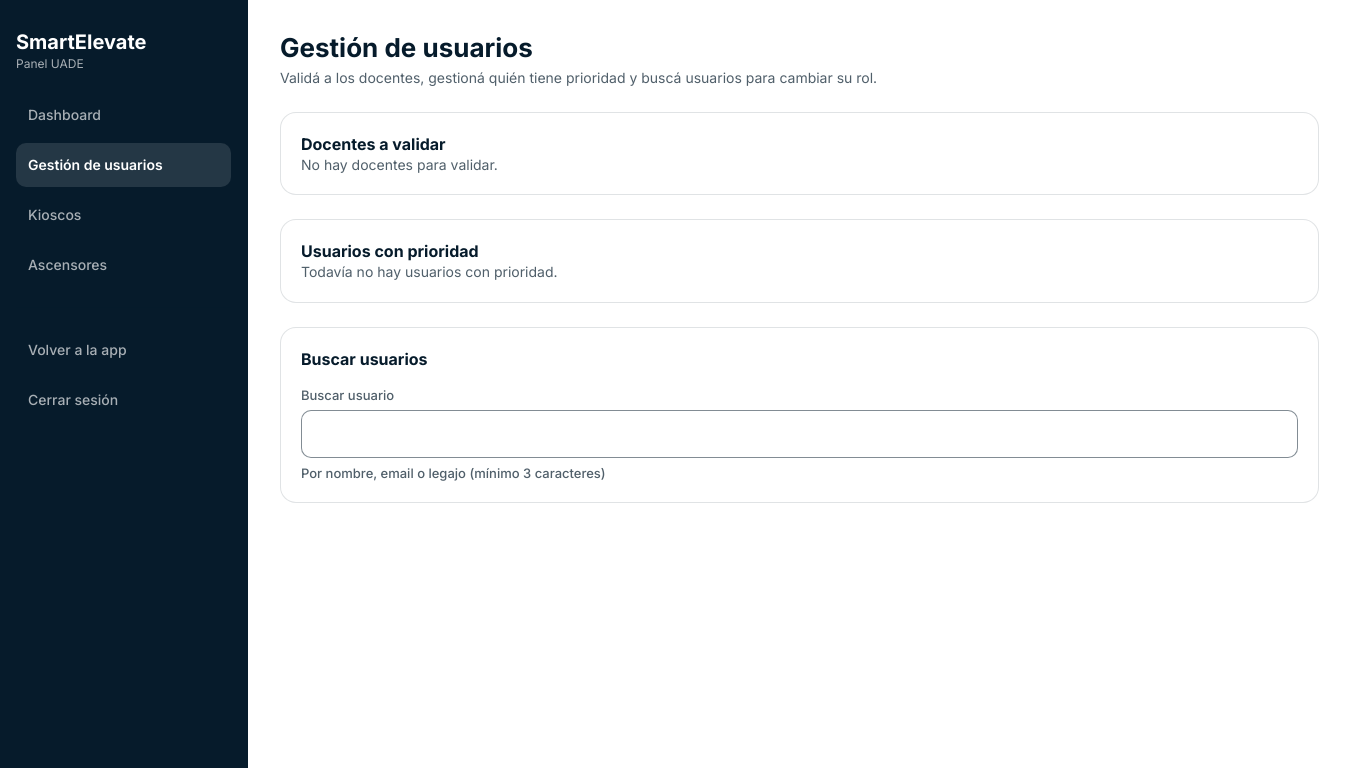
Test: Gestión de usuarios (09b) › de docente a estudiante avisa que se quita la prioridad
Type "carla" into the search field labelled "Buscar usuario" at {"x": 800, "y": 434}, box [301,410,1298,458]
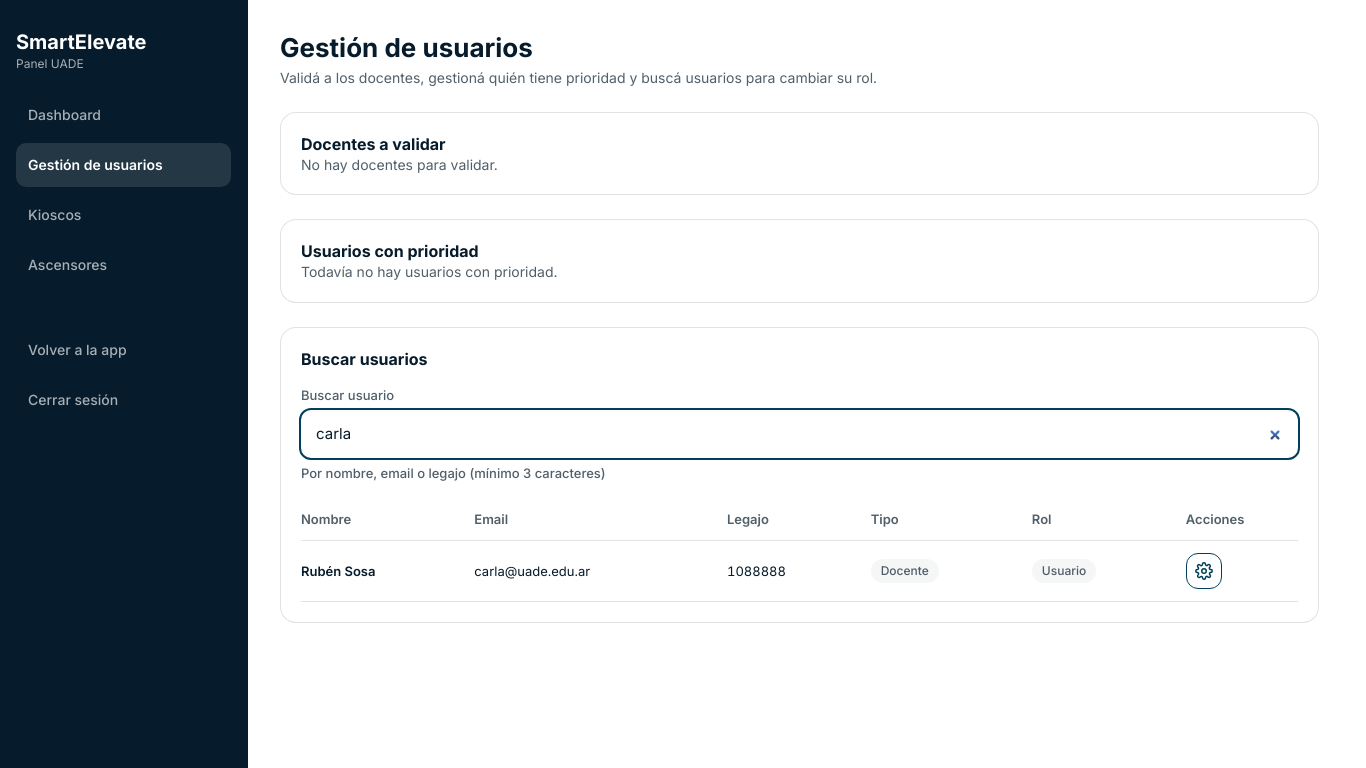
Click the button named "Gestionar usuario Rubén Sosa" at {"x": 1204, "y": 571}, box [1186,553,1222,589]
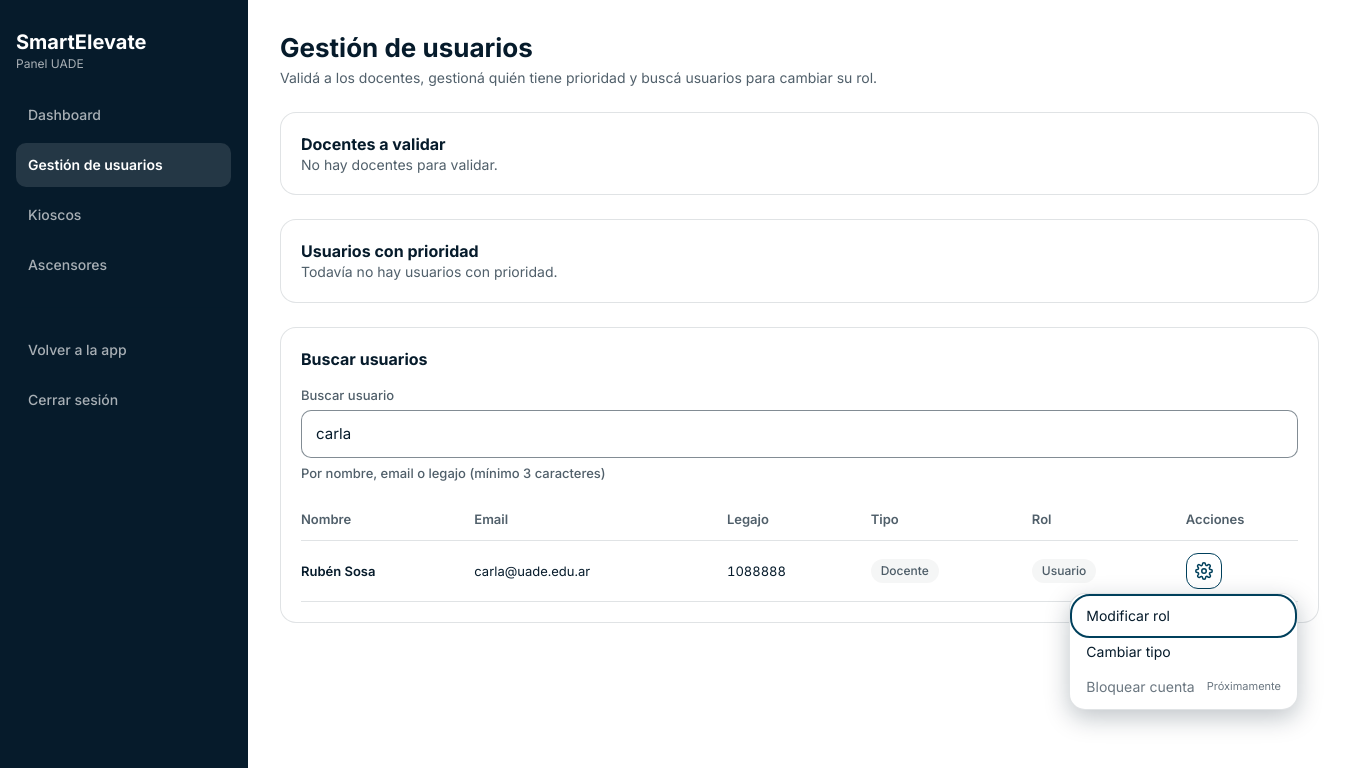
Click the menu item "Cambiar tipo" at {"x": 1184, "y": 651}, box [1074,634,1293,669]
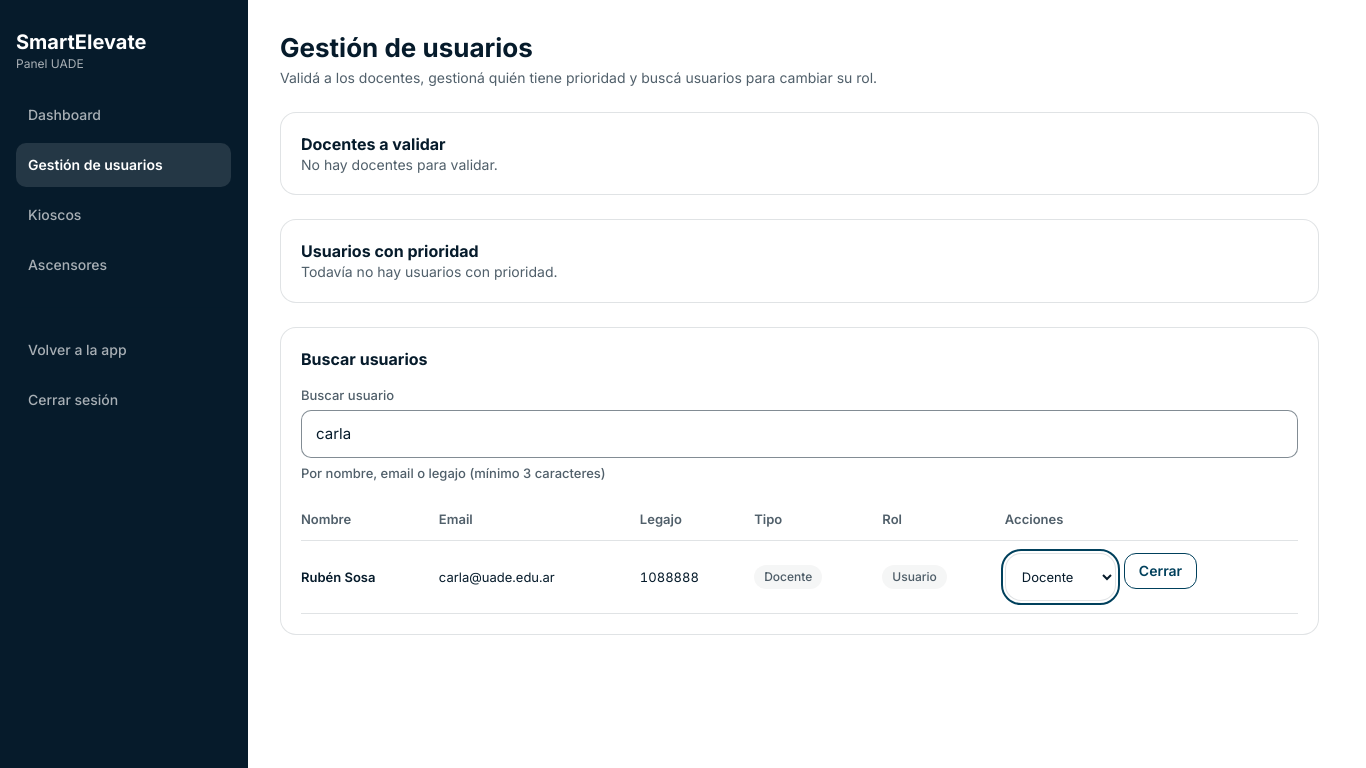
Select "Estudiante" in the dropdown named "Tipo de Rubén Sosa" at {"x": 1060, "y": 577}, box [1005,553,1116,601]
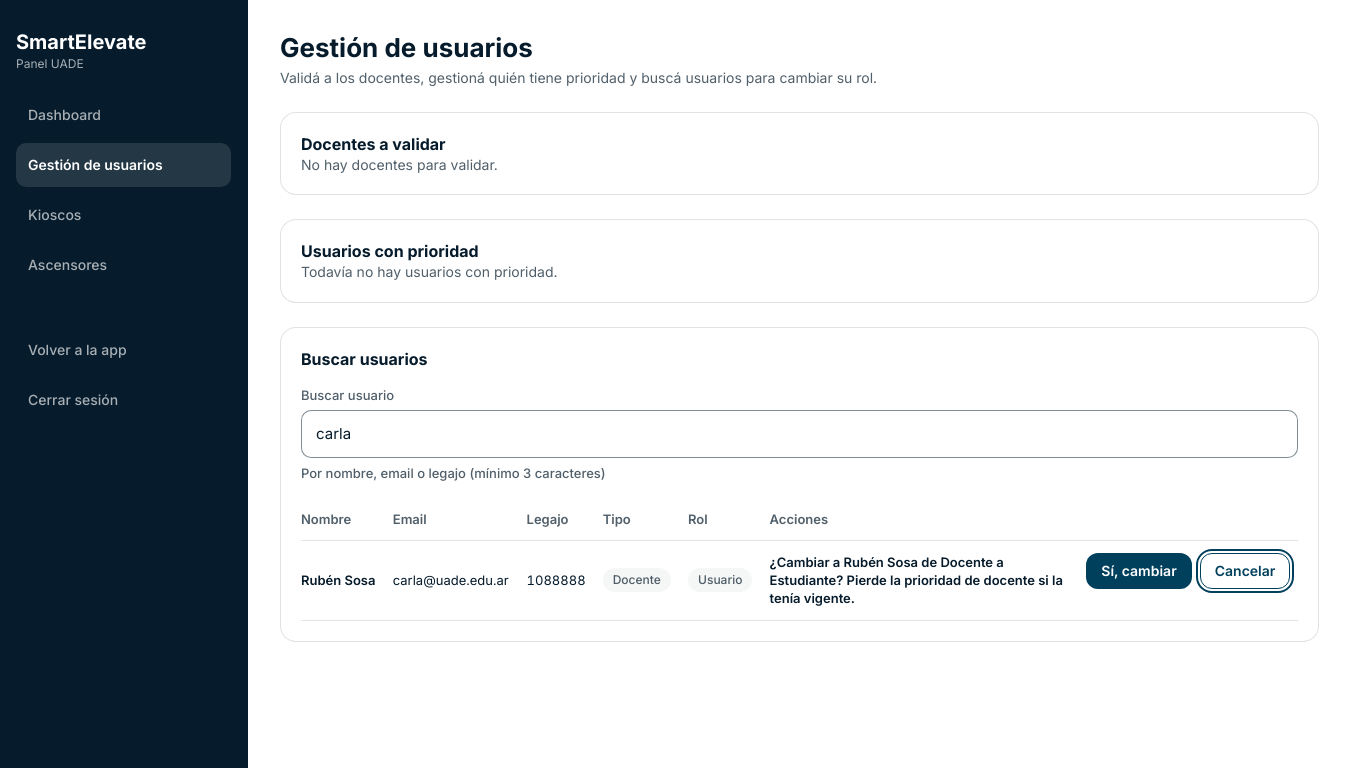
Now the element named "Cambiar tipo de Rubén Sosa" shows "Pierde la prioridad de docente si la tenía vigente.", box [770,572,1063,606]
